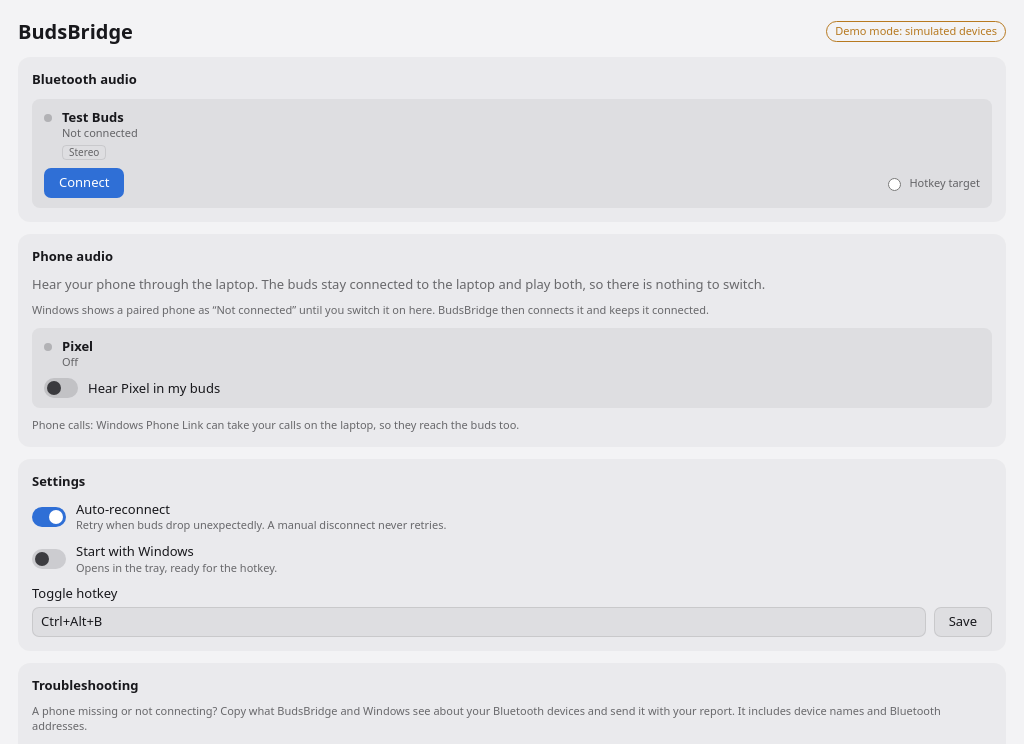
Test case: App › turns phone audio on and shows its progress
Click the switch labelled "Hear Pixel in my buds".
click(61, 388)  # box [44, 378, 78, 398]
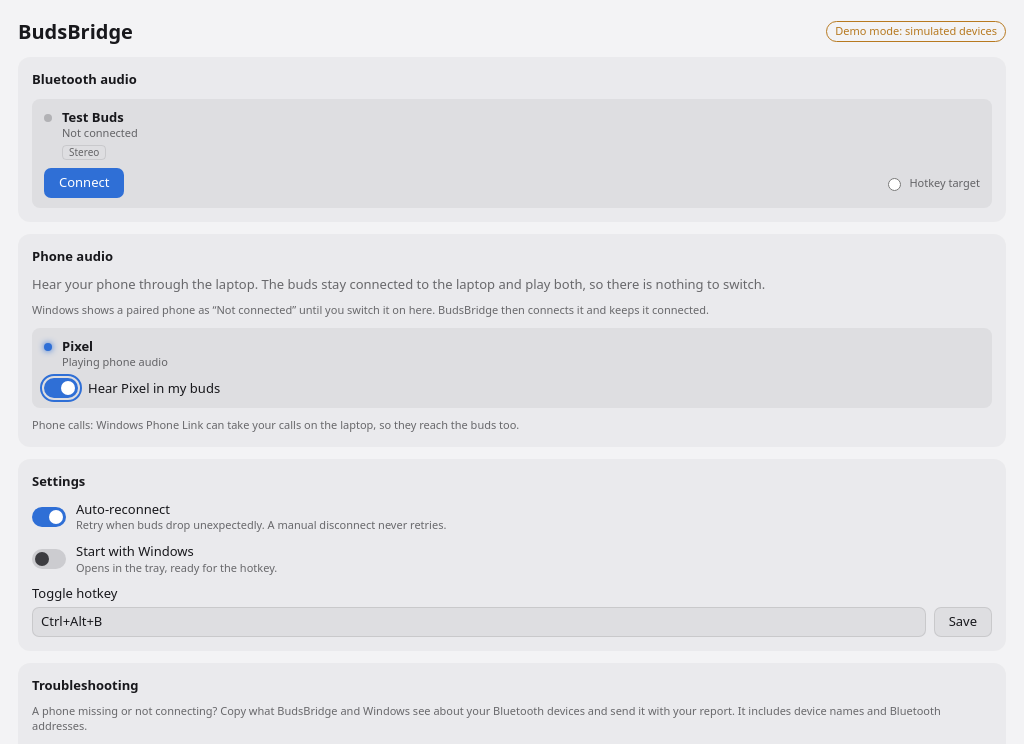
Check: the switch is checked, box [44, 378, 78, 398]
Check: the text "Playing phone audio" is shown, box [62, 356, 168, 370]
